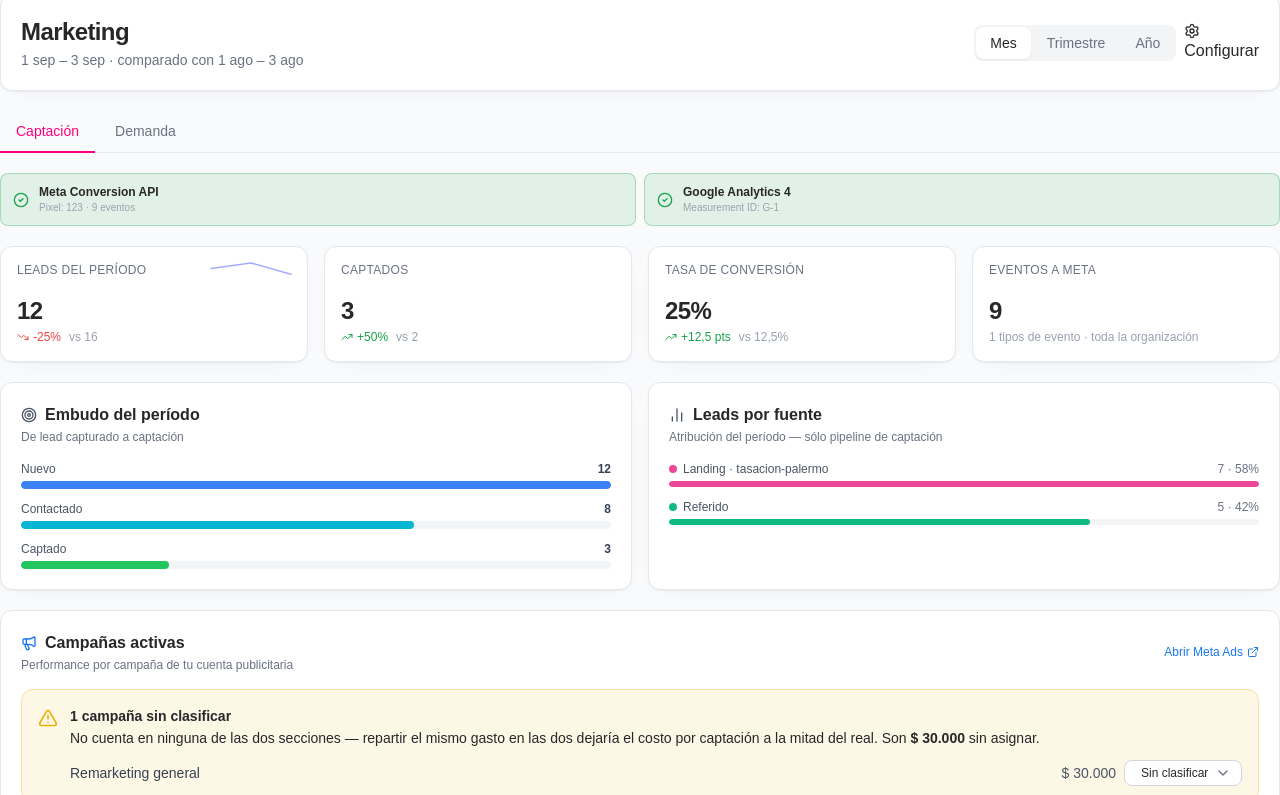
Scenario: Panel de Marketing — Demanda › muestra el costo por portal
Click the tab "Demanda" at (145, 132), box [99,111,192,153]
(page scrolled)
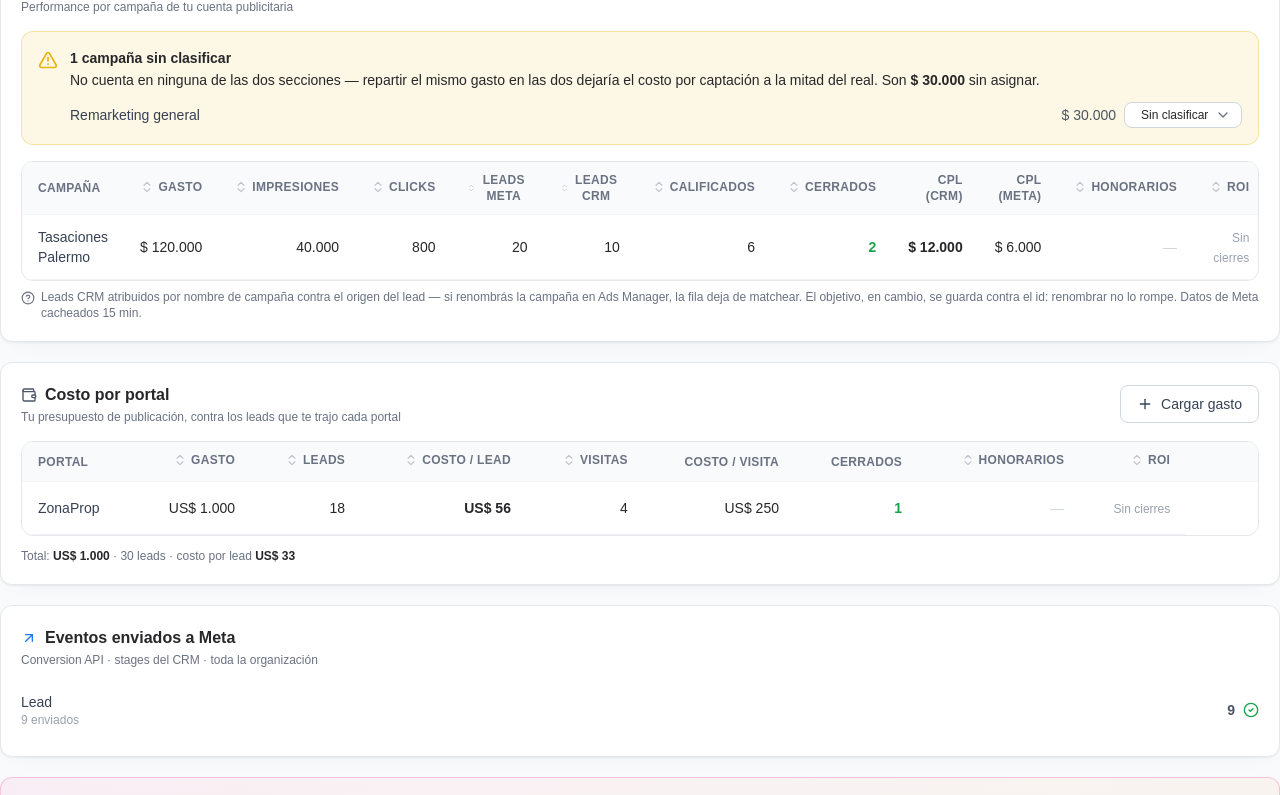
Now the heading "Costo por portal" is shown, box [21,386,169,403]
